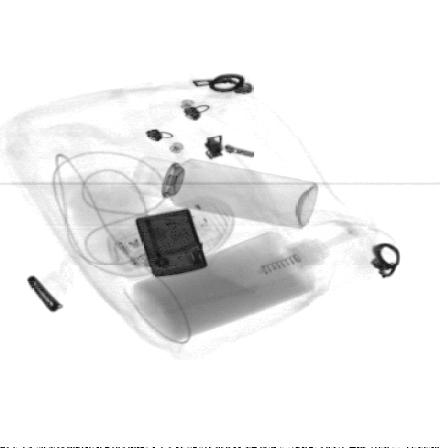Lighter: (135, 209, 208, 276)
Sprayer: (130, 156, 319, 229)
